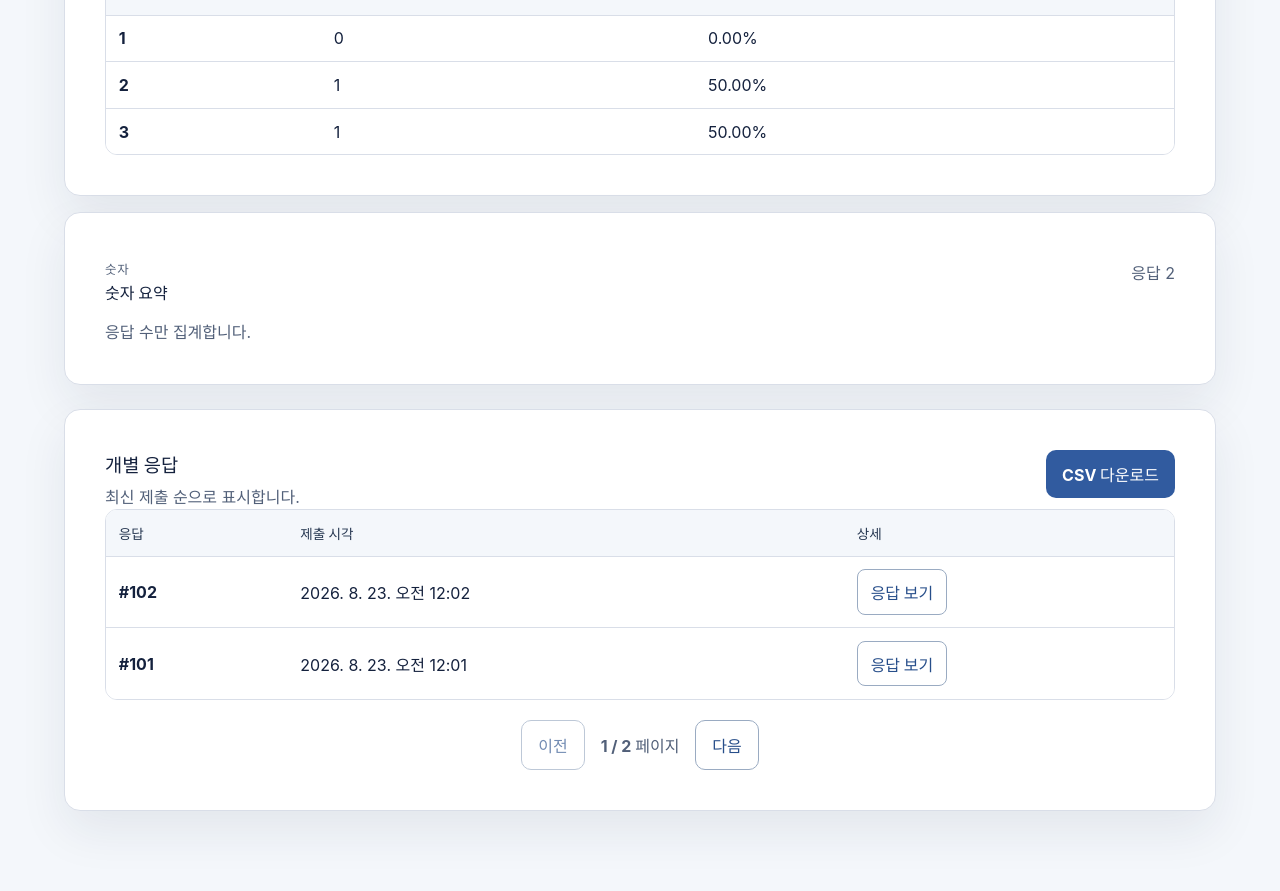
Test: Phase 4-D Results workflow › should_preventDuplicatePaginationAndRecoverFromOutOfRangePage
(page scrolled)
Click the button "다음".
click(727, 745)  # box left=695, top=720, right=759, bottom=770
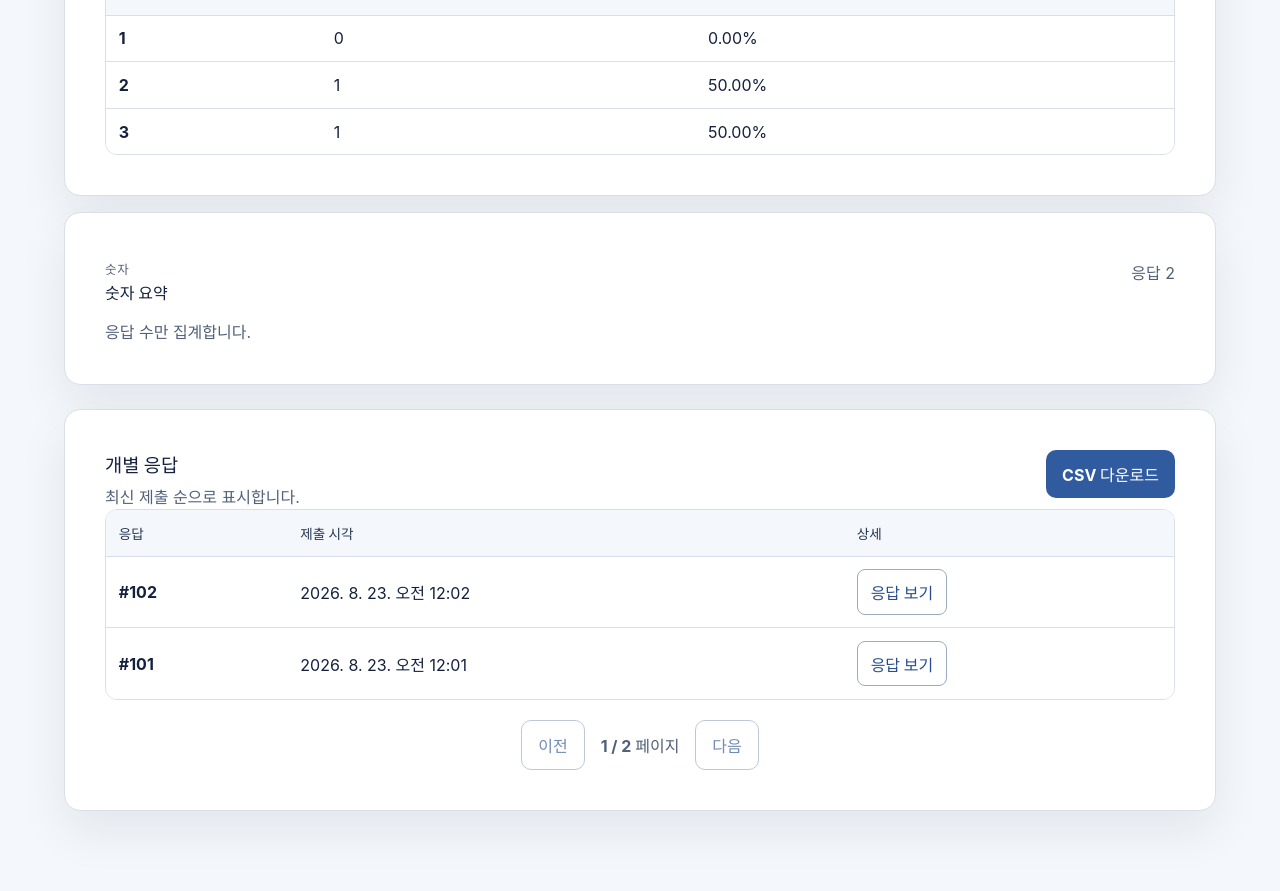
Click the button "다음".
click(727, 745)  # box left=695, top=720, right=759, bottom=770
(page scrolled)
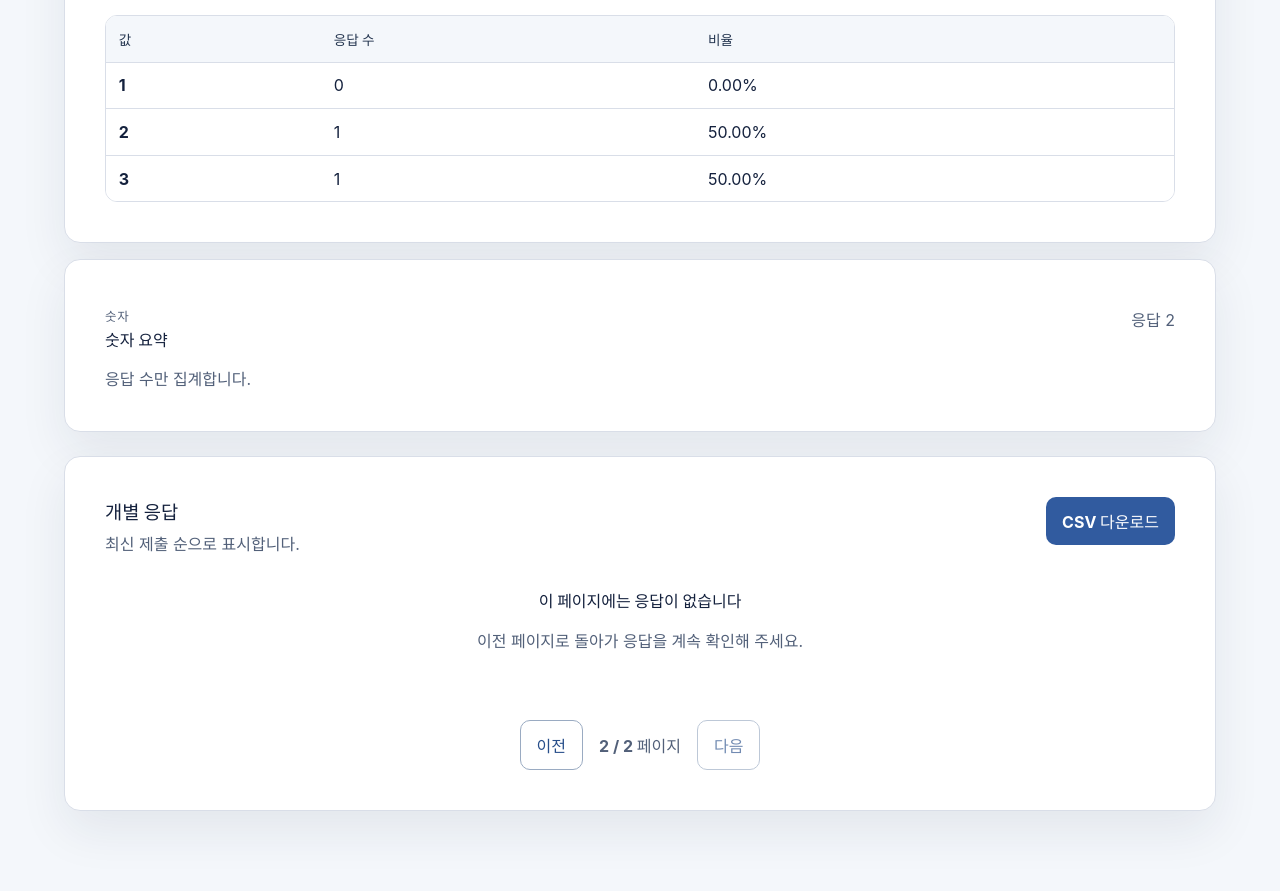
Expected: the button "다음" is disabled, left=697, top=720, right=760, bottom=770
Expected: the heading "이 페이지에는 응답이 없습니다" is shown, left=539, top=591, right=741, bottom=611
Expected: the button "이전" is enabled, left=520, top=720, right=583, bottom=770
